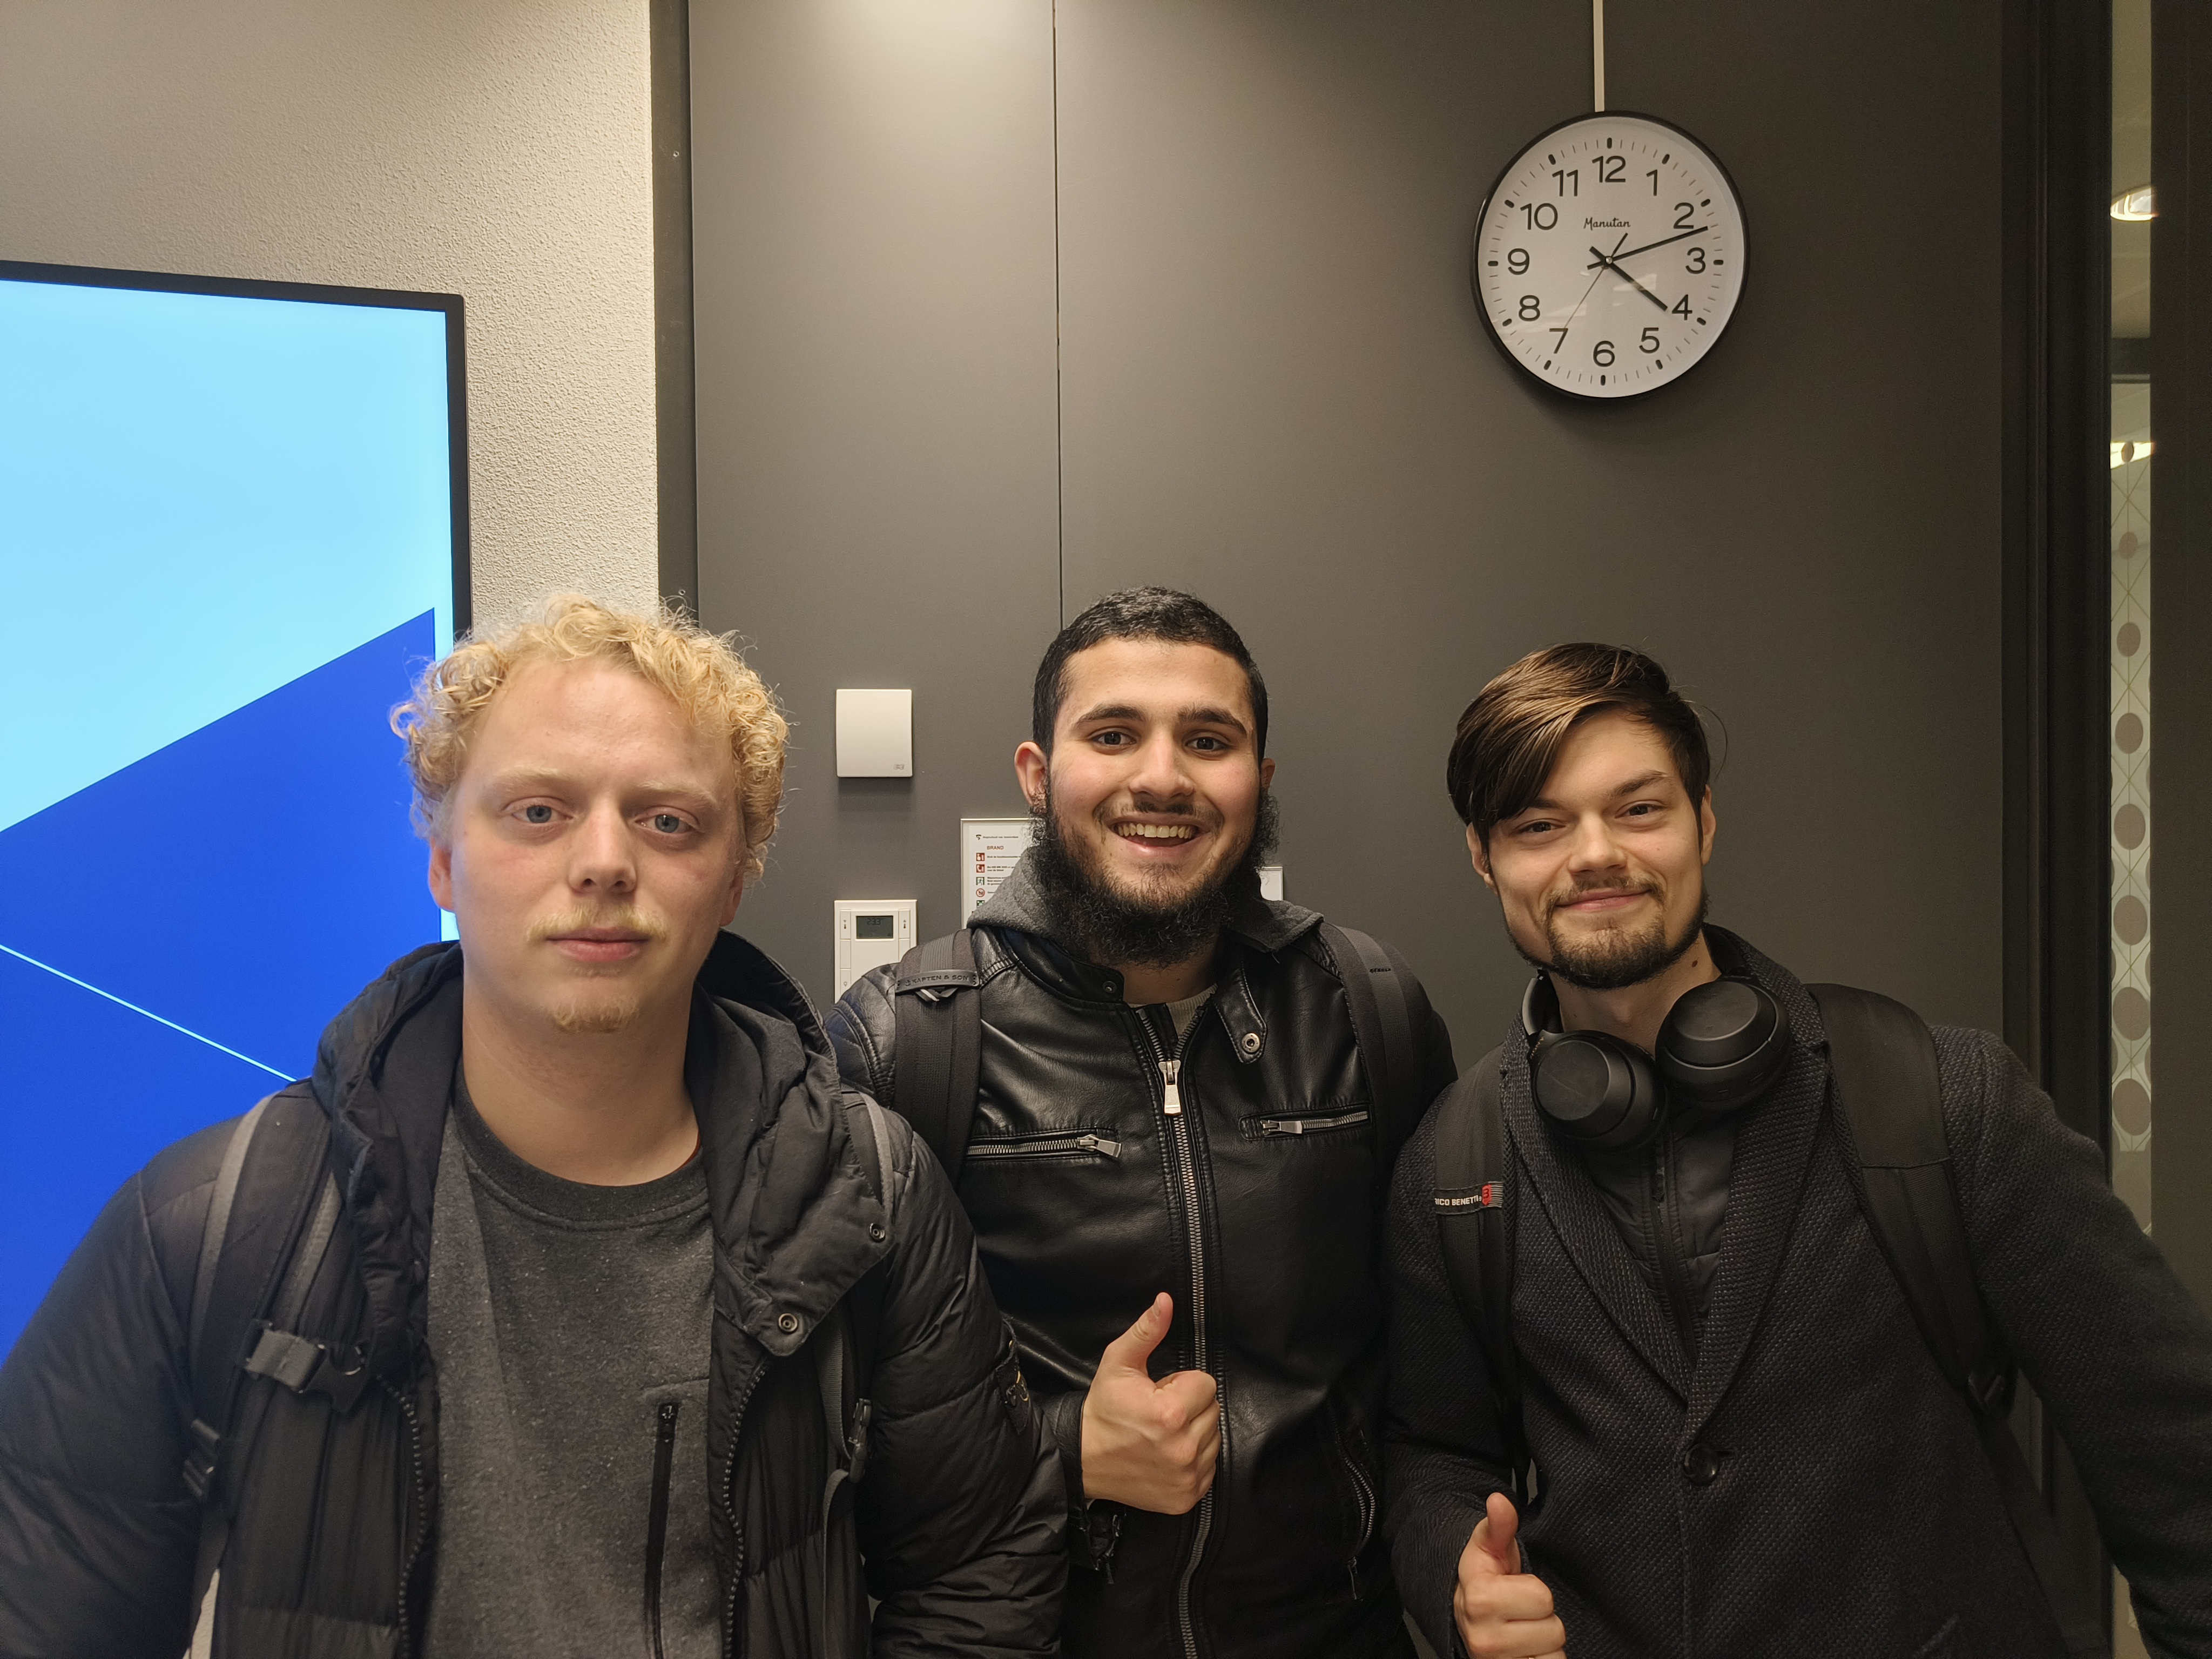face: (359, 534, 818, 1047), (1006, 537, 1309, 958), (1438, 606, 1736, 1013)
